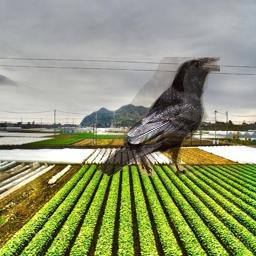Crow: (96, 57, 220, 176)
